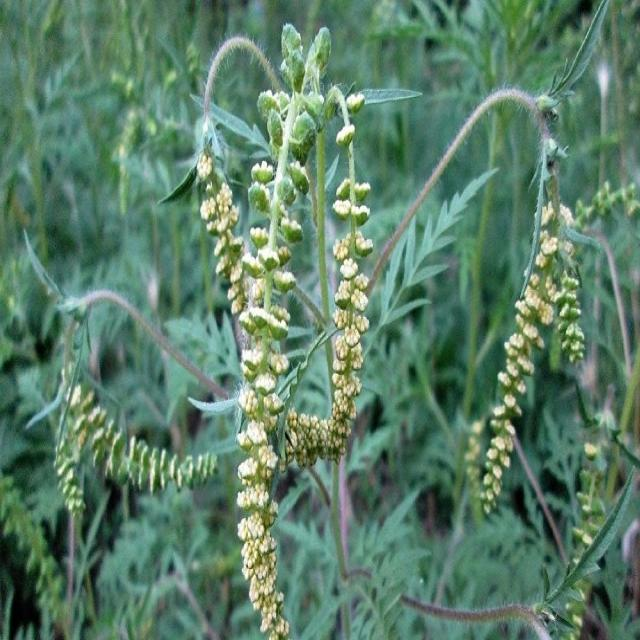ambrosia: (192, 54, 372, 636), (459, 117, 592, 547), (239, 67, 311, 640), (54, 342, 228, 555)
